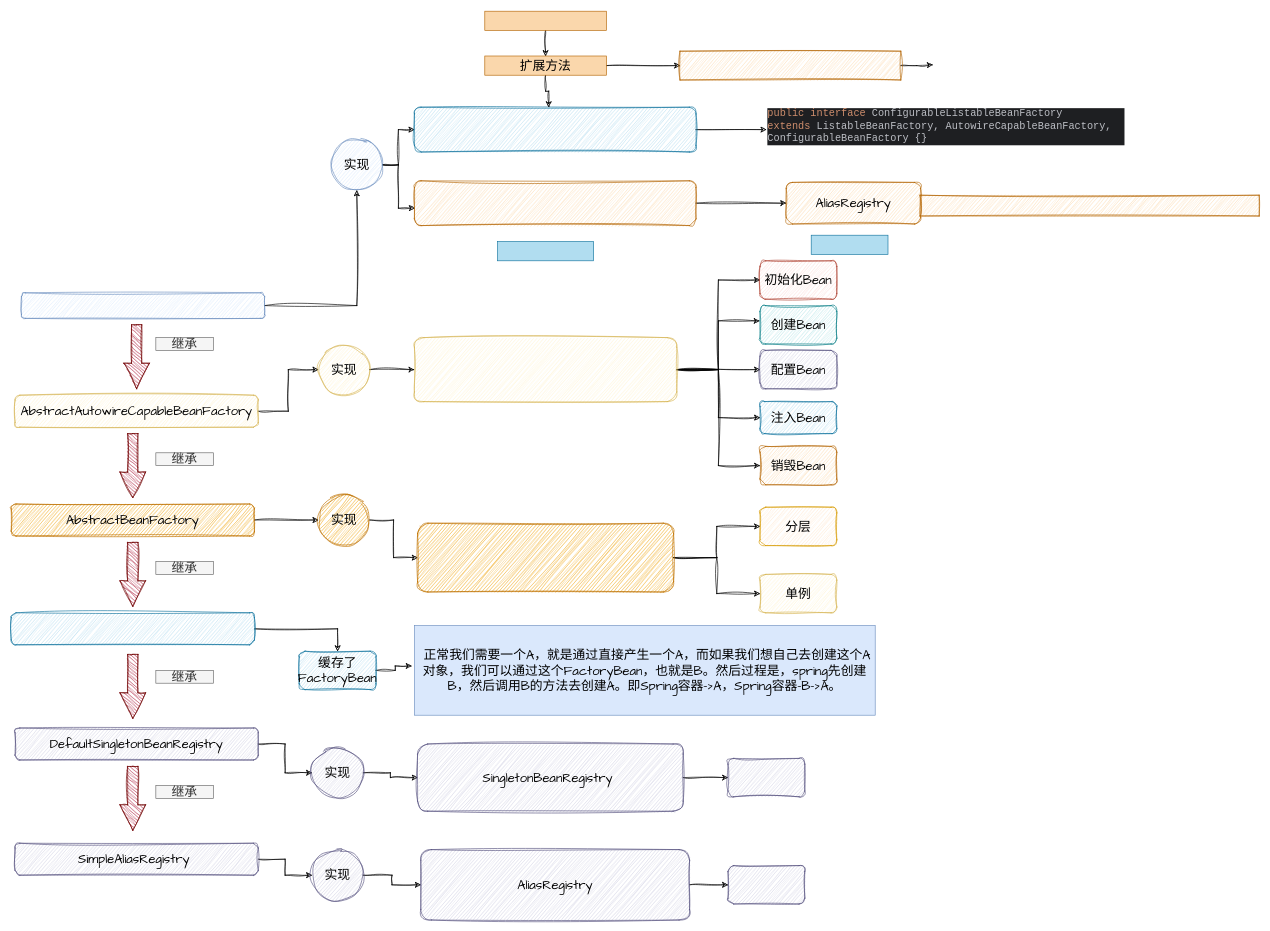
Image size: 1270x931. Some labels were removed from this diagram. Here are the shapes that lost their labels. From the top down, the centre of each, then its label:
(545,20): 继承三大基本接口
(790,65): 它还提供了分析和修改 Bean 定义以及预实例化单例的工具（解决循环依赖）
(555,129): ConfigurableListableBeanFactory
(555,203): BeanDefinitionRegistry
(1089,205): void ignoreDependencyInterface (Class<?> ifc);
(545,251): 注册Bean定义
(849,244): 注册别名
(143,305): DefaultListableBeanFactory
(545,369): AutowireCapableBeanFactory
(545,557): ConfigurableBeanFactory
(132,628): FactoryBeanRegistrySupport
(766,777): 单例Bean的管理
(766,884): Bean别名注册
